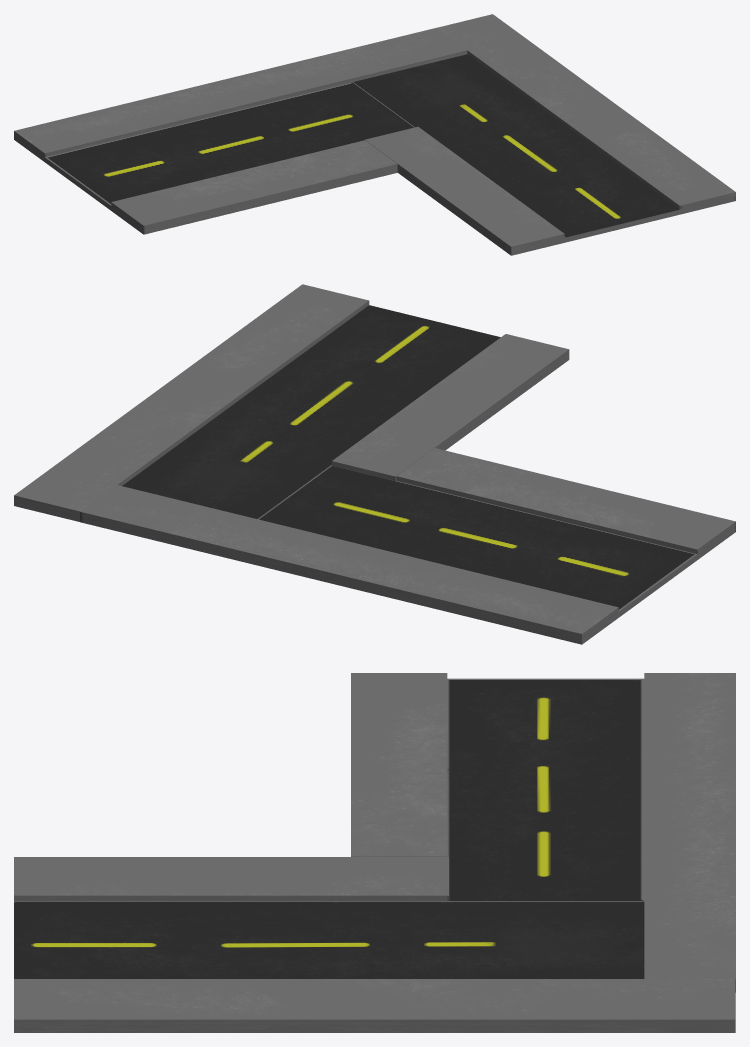
File: roadTurn.fbx
The picture shows the model from 3 angles, top to bottom: view 1: azimuth 30°, elevation 25°; view 2: azimuth 150°, elevation 25°; view 3: azimuth 270°, elevation 25°; orthographic projection. The views are drawn at different scales.
Visible parts, largest first — view 1: Cube.001; view 2: Cube.001; view 3: Cube.001.
Boxes of the visible parts, bbox=[...] form: Cube.001: bbox=[14, 14, 735, 255]; Cube.001: bbox=[14, 284, 735, 644]; Cube.001: bbox=[14, 673, 735, 1032].
Bounding box in the file's own units: 11235 × 200 × 9888.
1 material, 1 textured.
